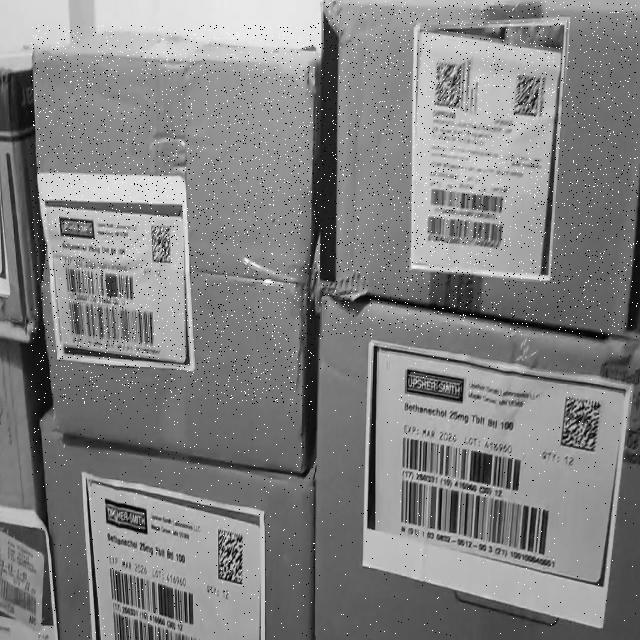BoxFace: (31, 26, 321, 476), (316, 290, 638, 636), (318, 1, 638, 337), (38, 404, 318, 638)
